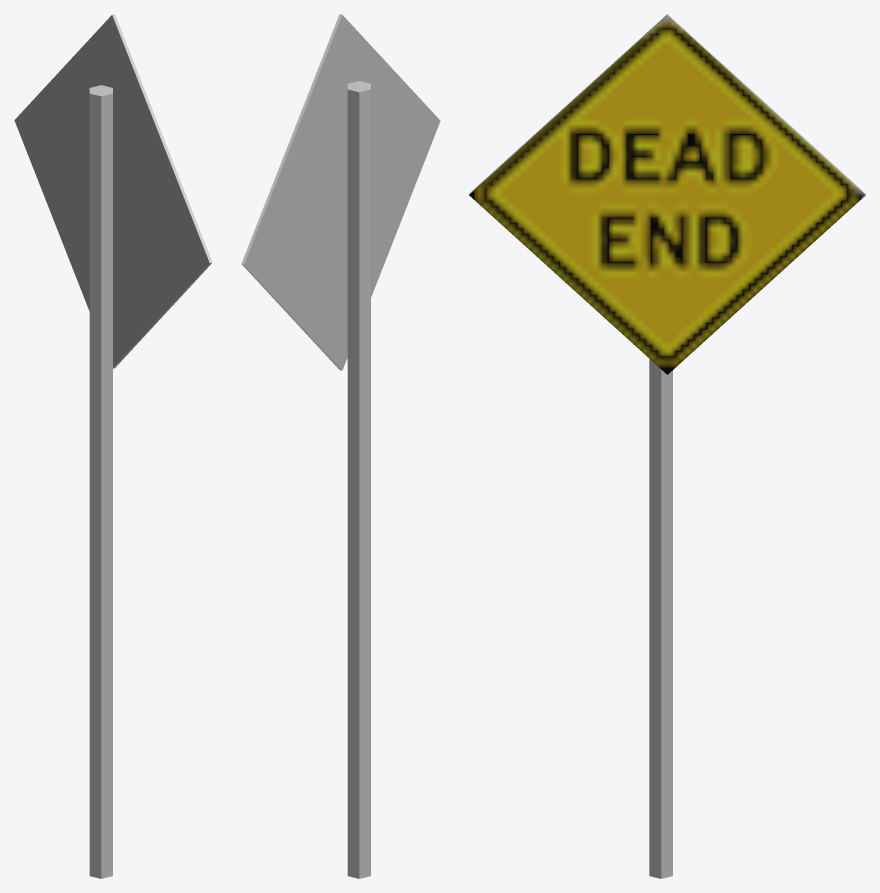
File: Warning_sign.FBX
3 renders of one model, left to right at view 1: azimuth 30°, elevation 25°; view 2: azimuth 150°, elevation 25°; view 3: azimuth 270°, elevation 25°, orthographic.
Parts seen in each view (by area): view 1: Sign, Pole; view 2: Sign, Pole; view 3: Sign, Pole.
Boxes of the visible parts, x1,y1,x2,y2 form: Sign: [14, 14, 212, 368]; Pole: [89, 85, 112, 878]; Sign: [241, 14, 440, 370]; Pole: [347, 81, 370, 878]; Sign: [469, 14, 865, 374]; Pole: [649, 359, 672, 878].
Size of the model in its own units: 0.9399 by 27.13 by 11.27.
